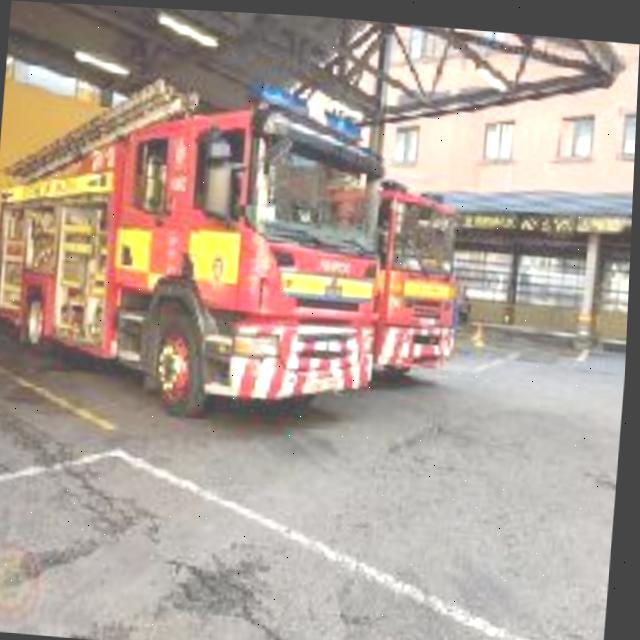emergency: (0, 91, 393, 395), (380, 187, 472, 378)
